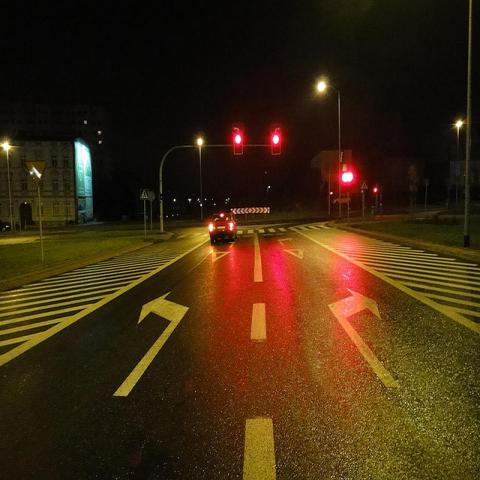car: (209, 213, 238, 244), (331, 193, 351, 206)
